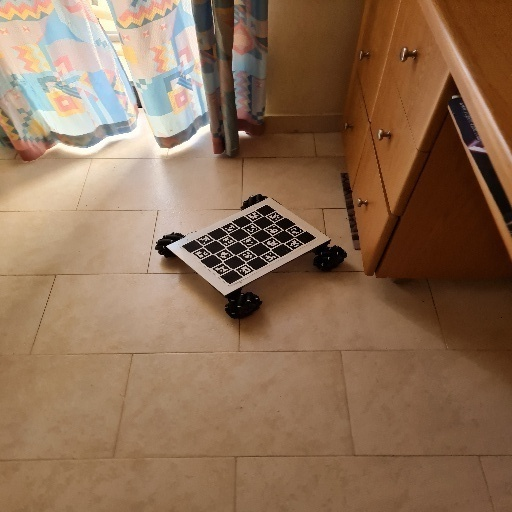Omniwheel: (155, 194, 350, 322)
